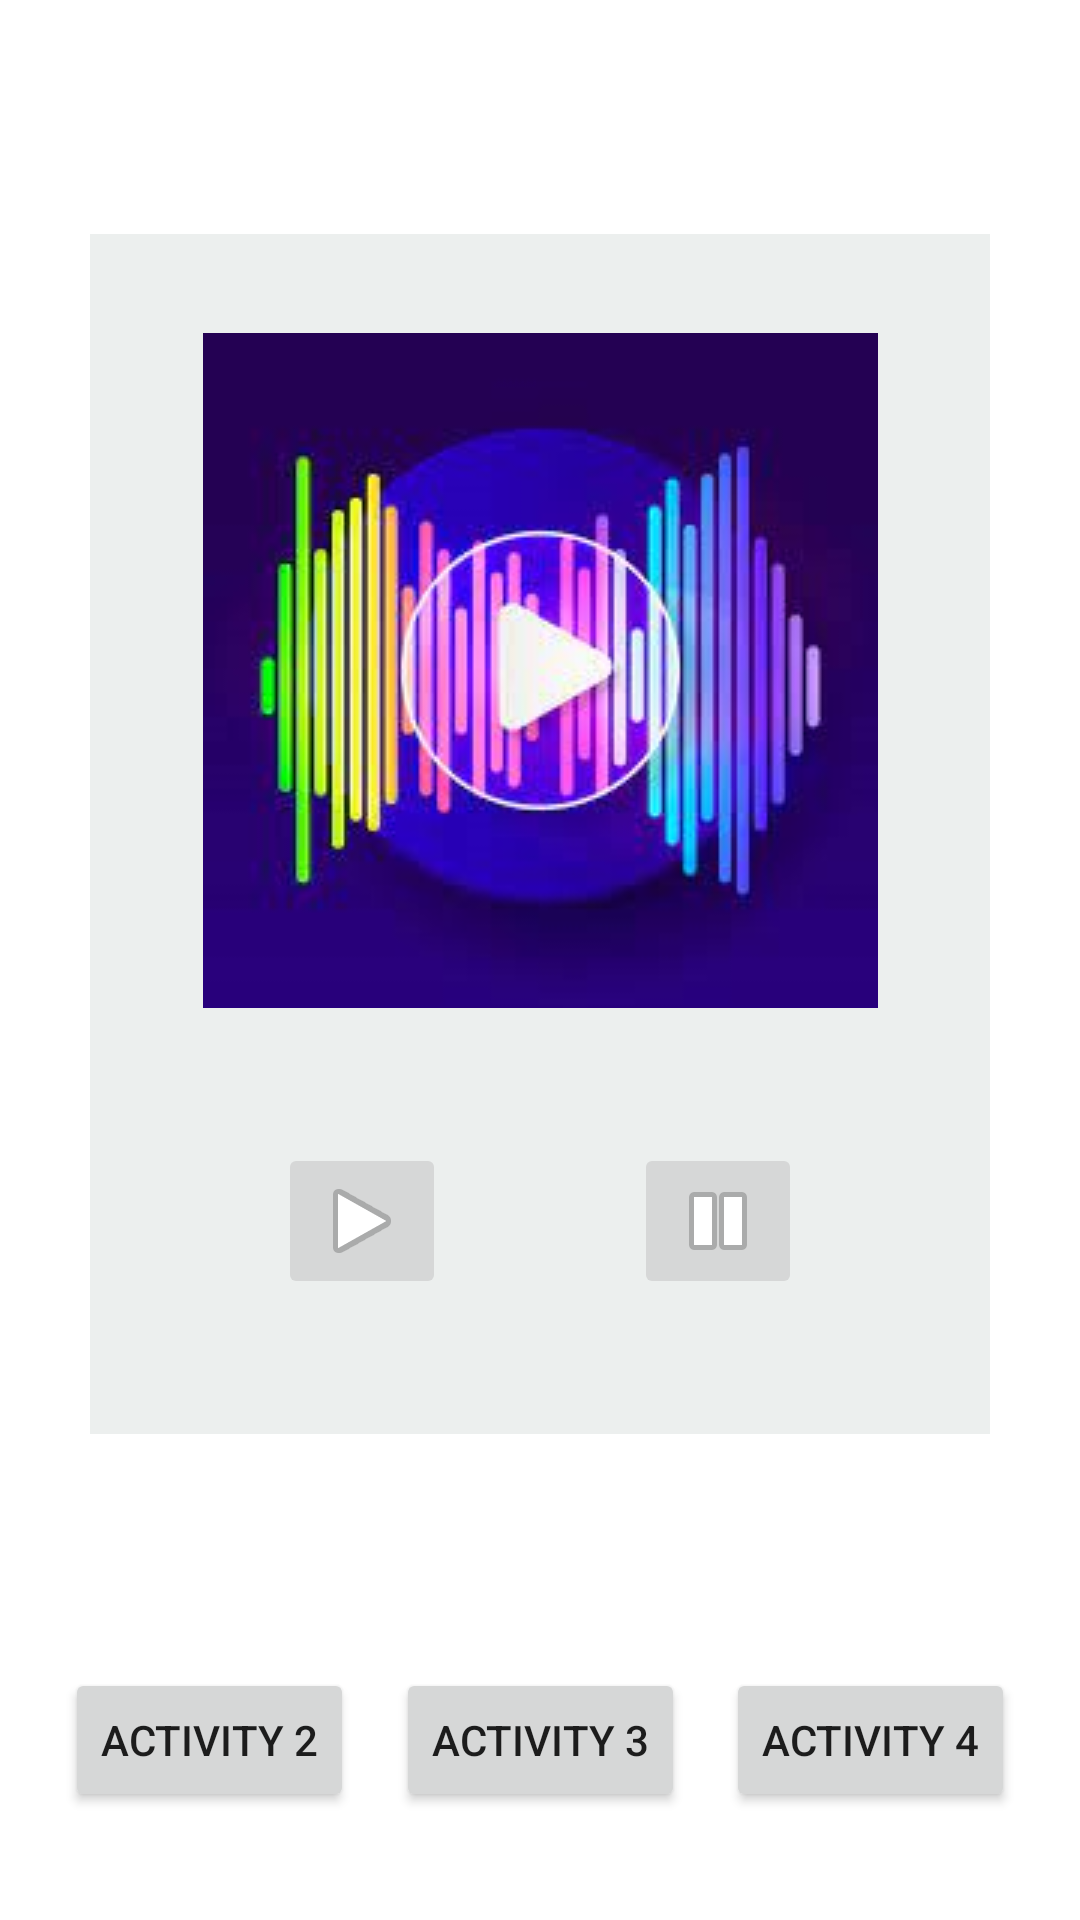

Named icons in this screenshot (1080w x 1920h) and their bounding boxes, (x1, y1, x2, y2):
pause: (646, 1161, 790, 1281)
play: (290, 1161, 434, 1281)
